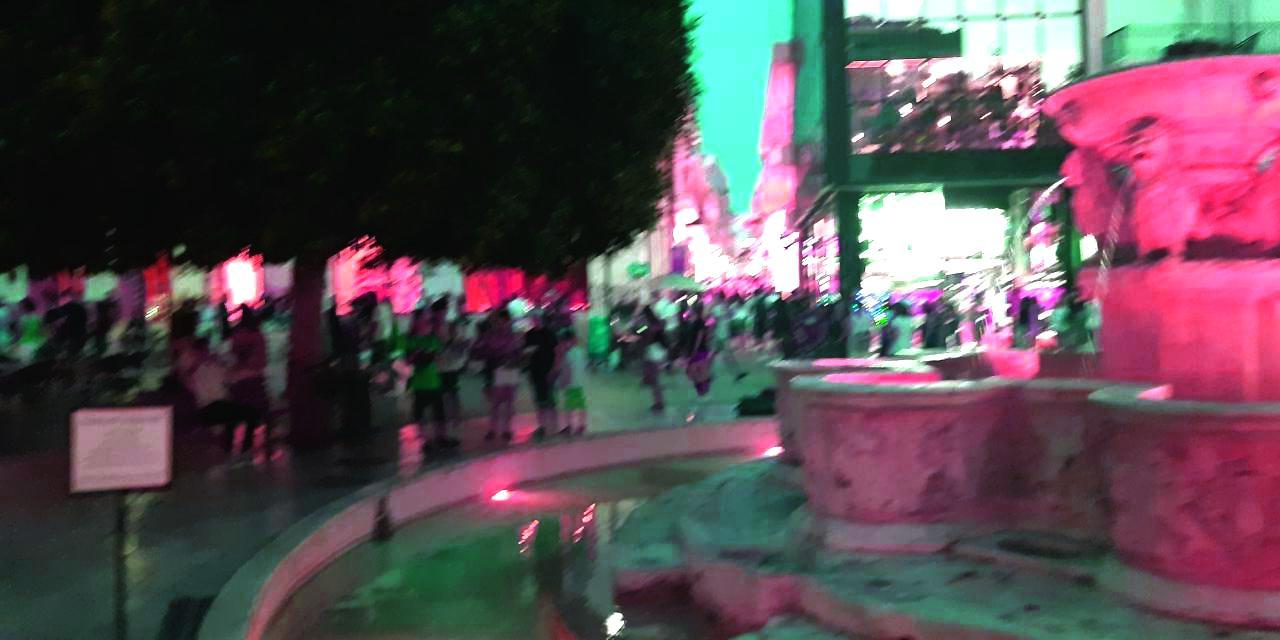Liontaria: (773, 60, 1280, 639)
